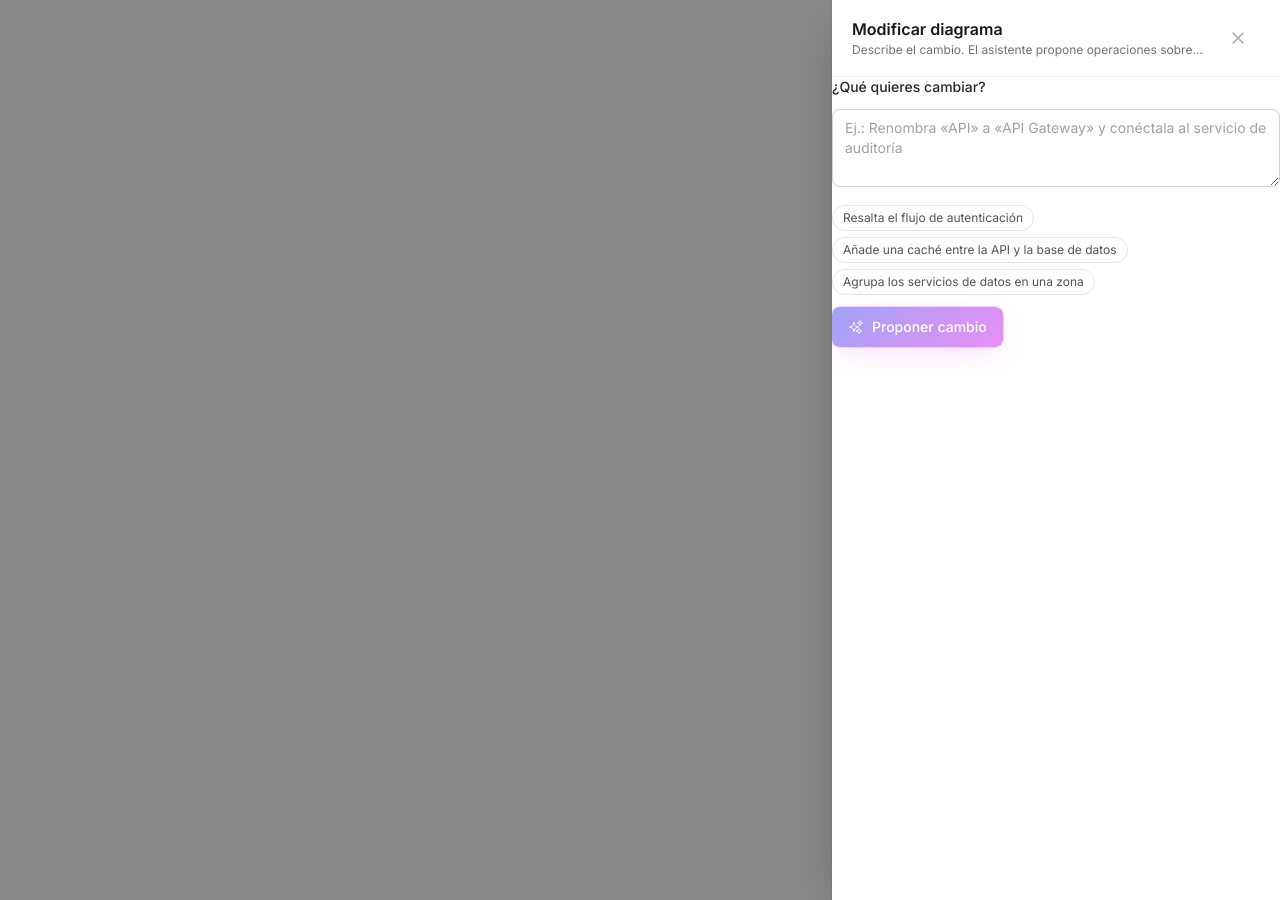
Test: DiagramModifyPanel › muestra la vista previa del motor y no escribe nada antes del clic
Replace the text in the text box labelled "¿Qué quieres cambiar?" with "renombra la API" at (1056, 148), box [832,109,1279,187]
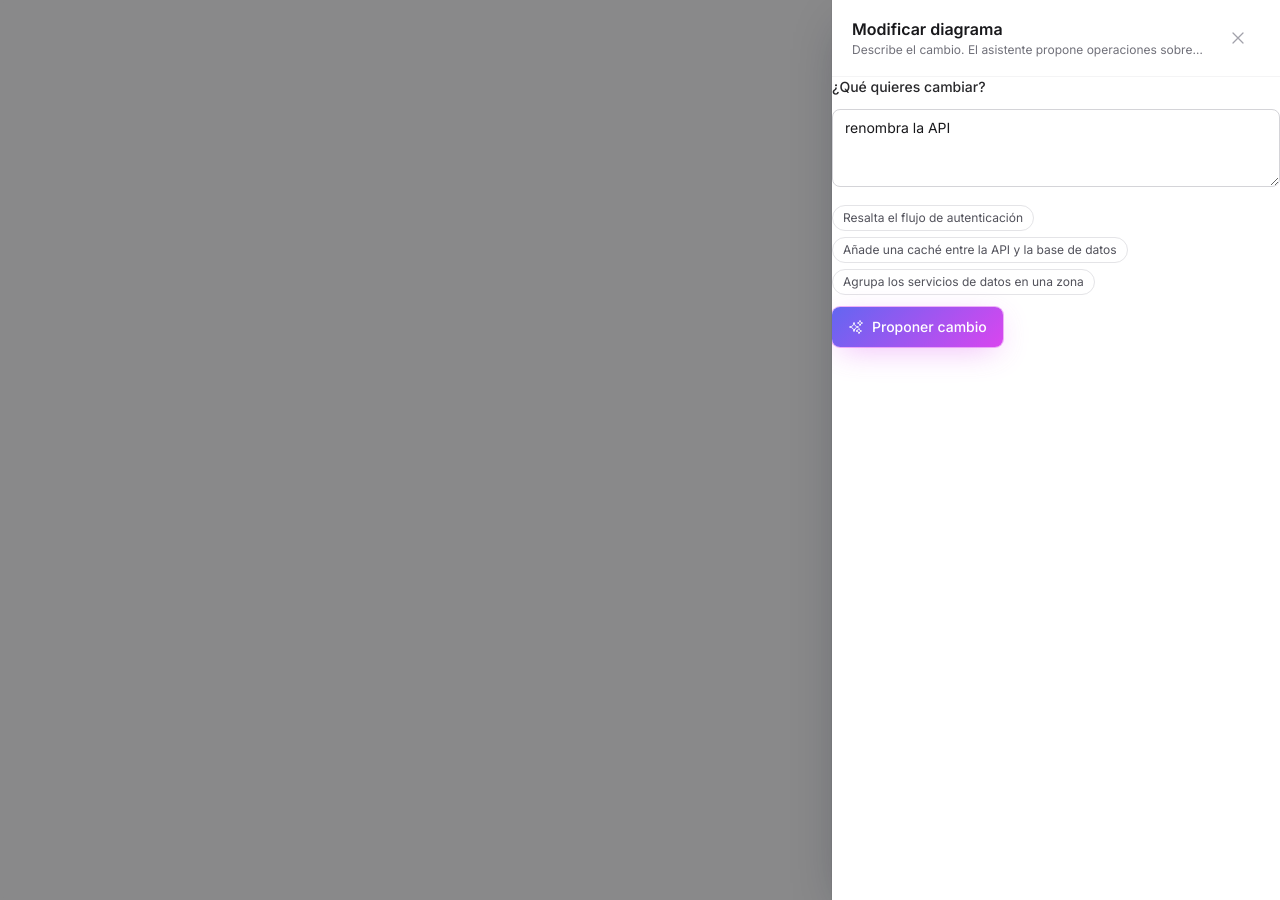
Click the button "Proponer cambio" at (917, 327), box [832,307,1003,347]
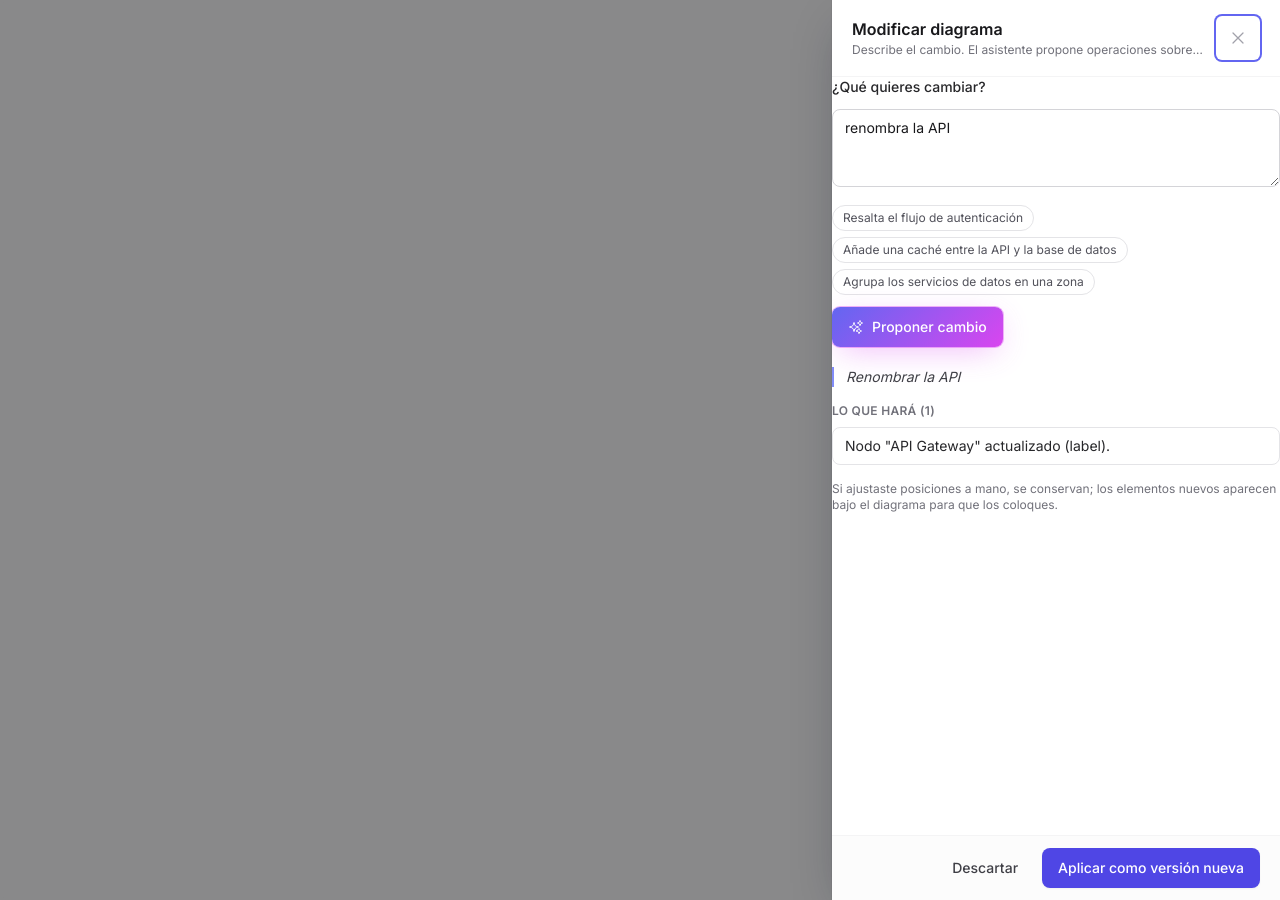
Expected: the text "Renombrar la API" is shown, [832,367,1279,387]
Expected: the heading "Lo que hará (1)" is shown, [832,403,935,418]
